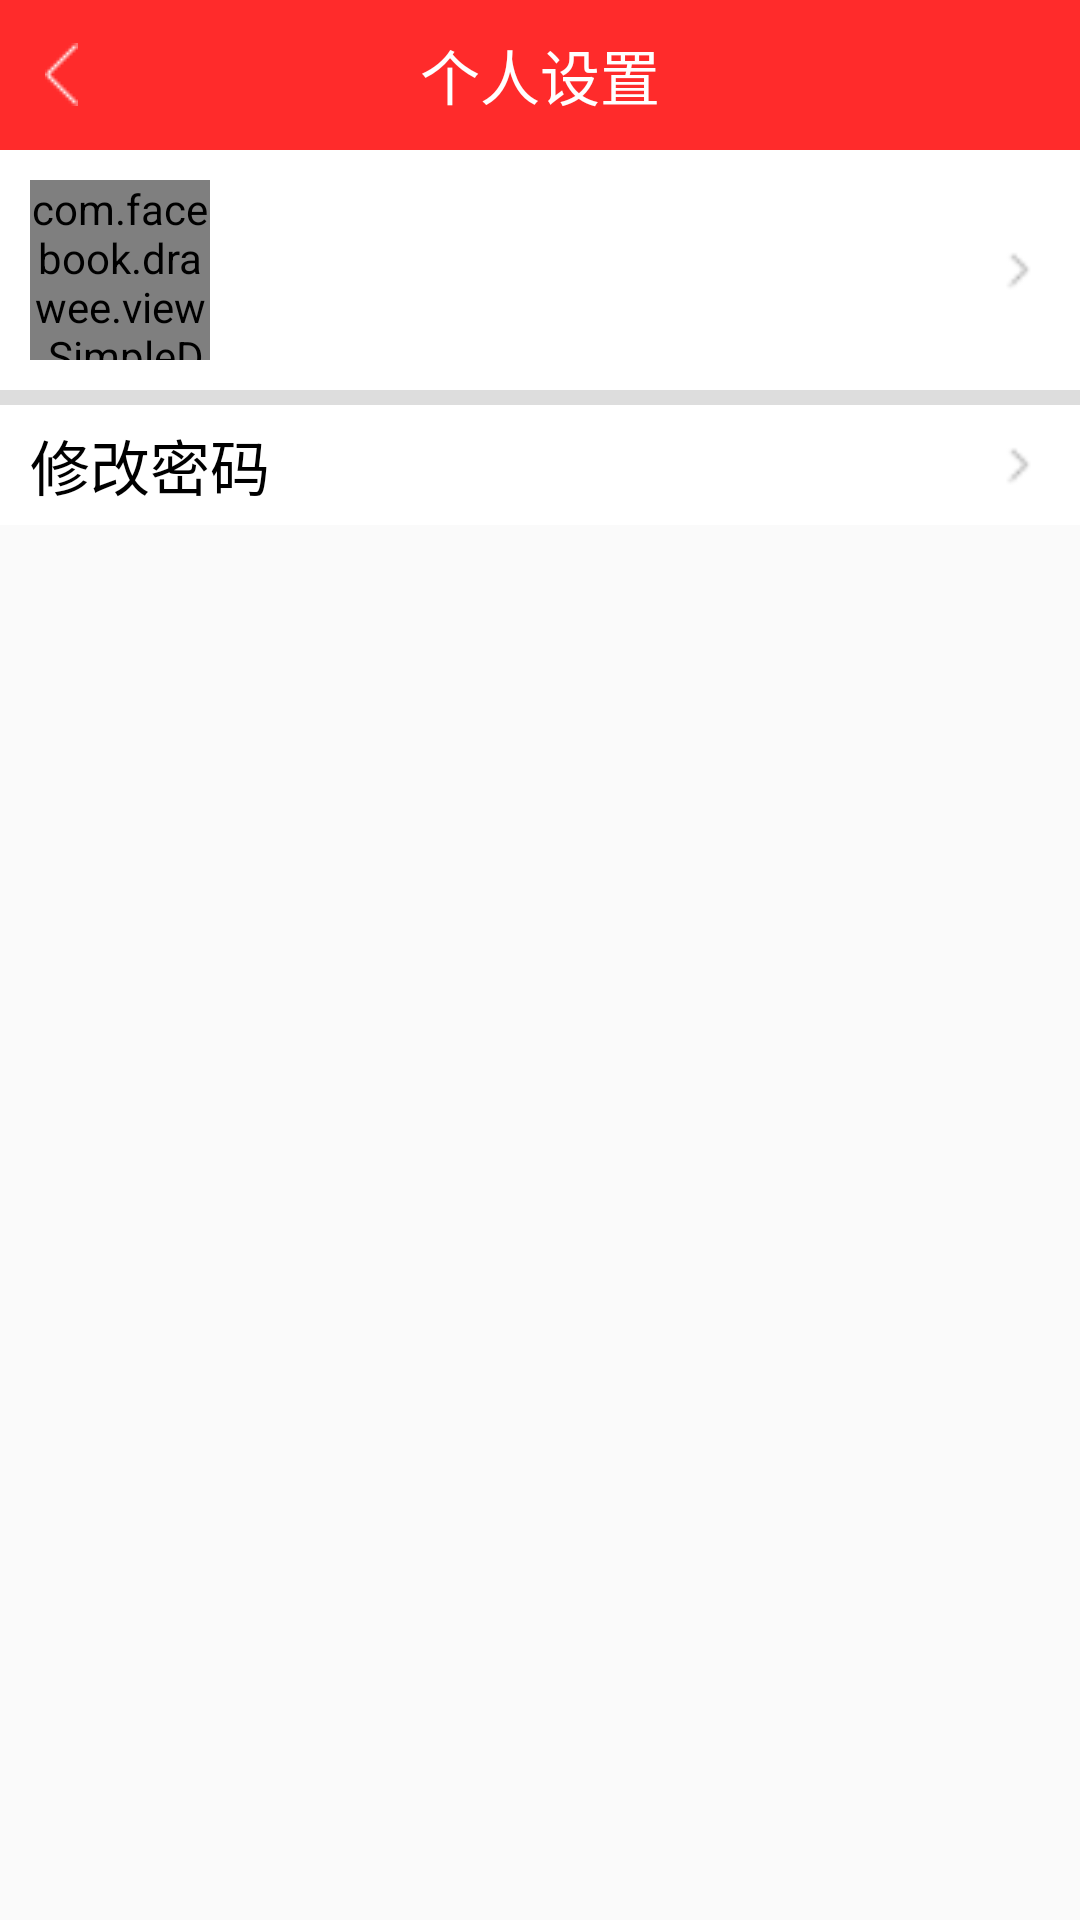

Icon click points for this 1080w x 1920h phone screenshot, format (x=x, y=y):
fanhui: (x=61, y=74)
